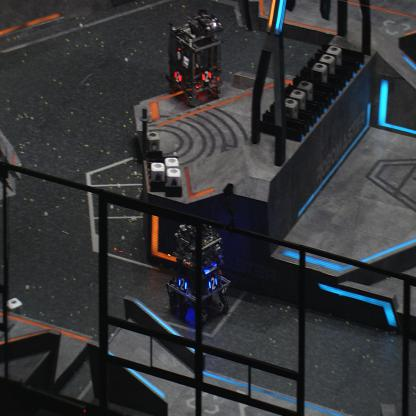car: (166, 222, 231, 326), (166, 10, 224, 108)
